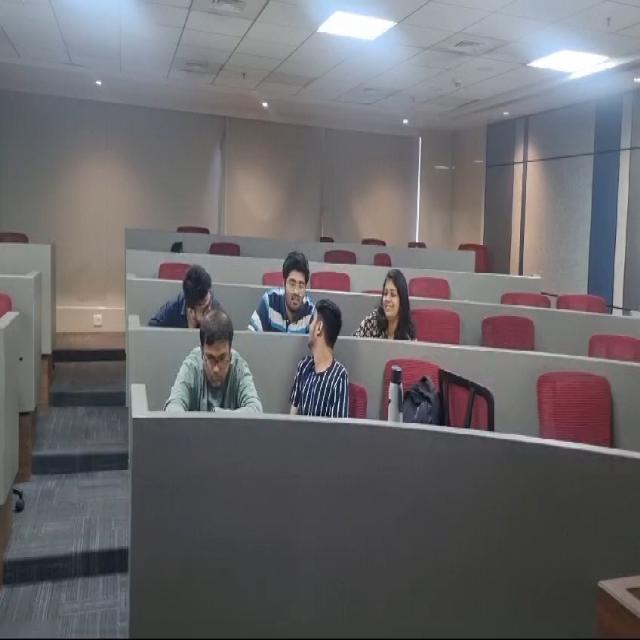cheating: (298, 301, 351, 422), (250, 245, 316, 333), (360, 266, 416, 342), (168, 265, 220, 322)
non-cheating: (178, 318, 246, 406)
